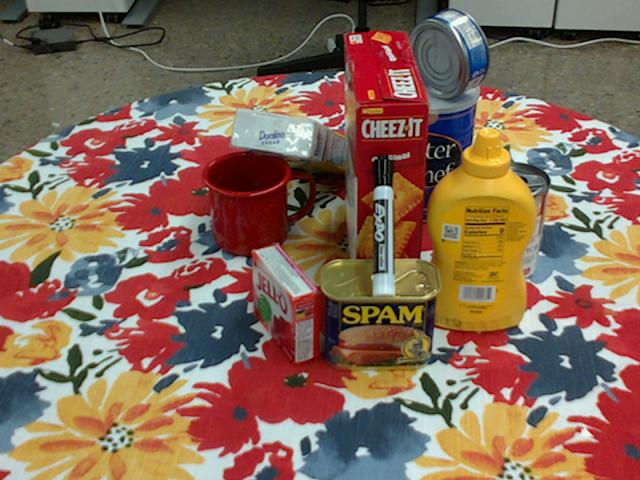cracker_box: (342, 33, 429, 306)
gelatin_box: (253, 242, 321, 363)
large_marker: (371, 153, 396, 296)
master_chef_can: (379, 67, 478, 223)
mug: (203, 150, 316, 256)
mustard_bottle: (422, 127, 537, 331)
potted_meat_can: (321, 258, 442, 370)
sugar_box: (232, 109, 362, 177)
tomato_soup_can: (472, 162, 550, 282)
tuna_fish_can: (406, 9, 488, 98)
